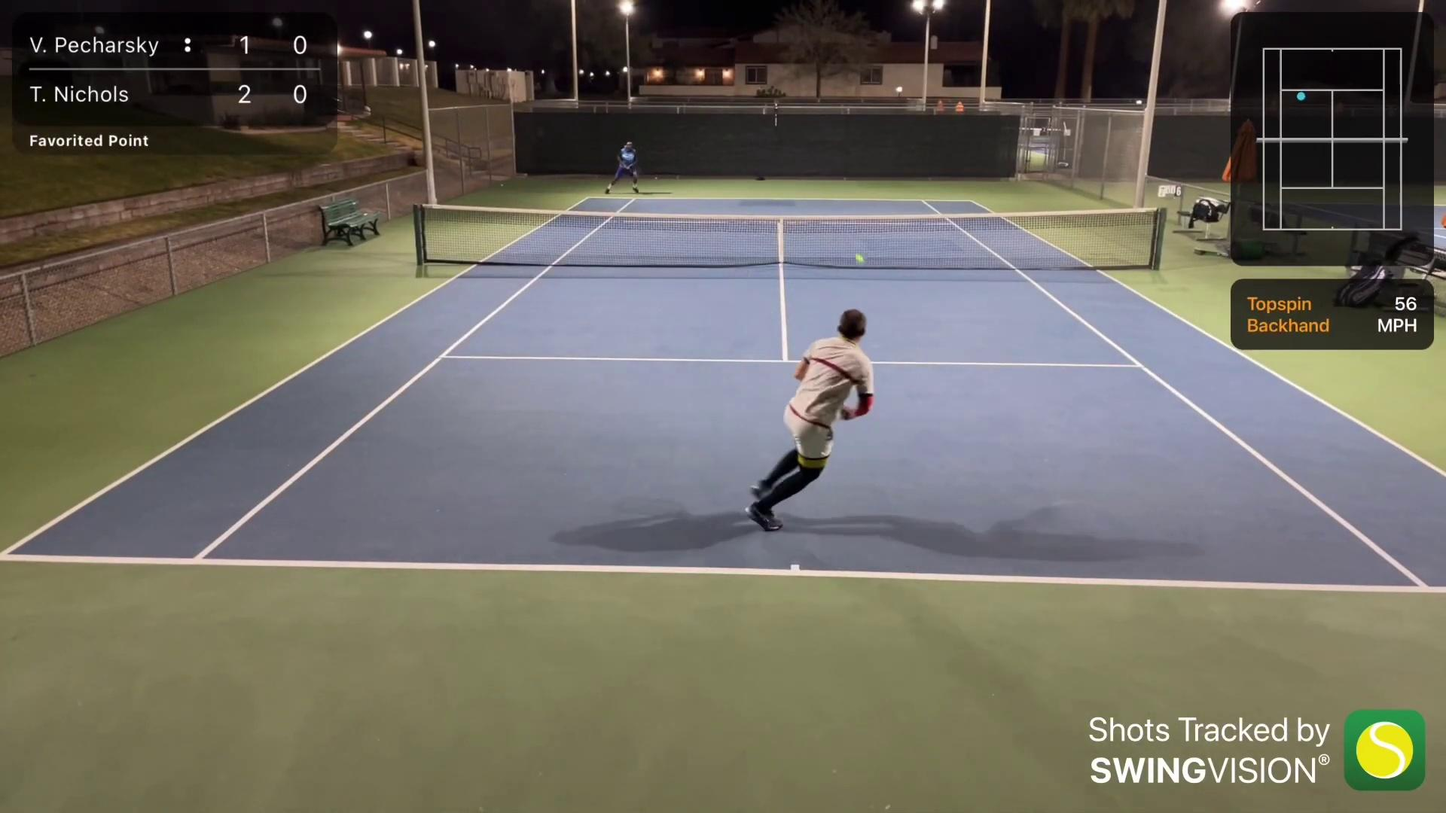ball: (857, 259, 865, 264)
